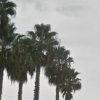Tree: (13, 10, 70, 96)
